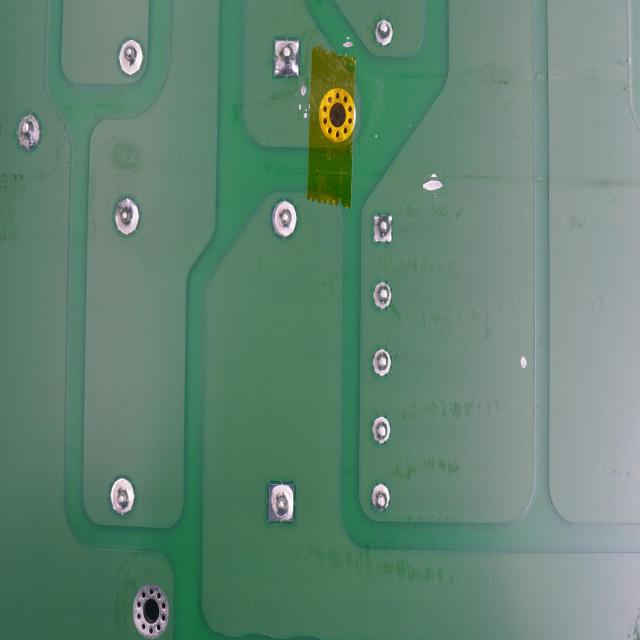spillover: (298, 76, 309, 122), (425, 175, 444, 195), (342, 36, 357, 50), (519, 349, 527, 372)
